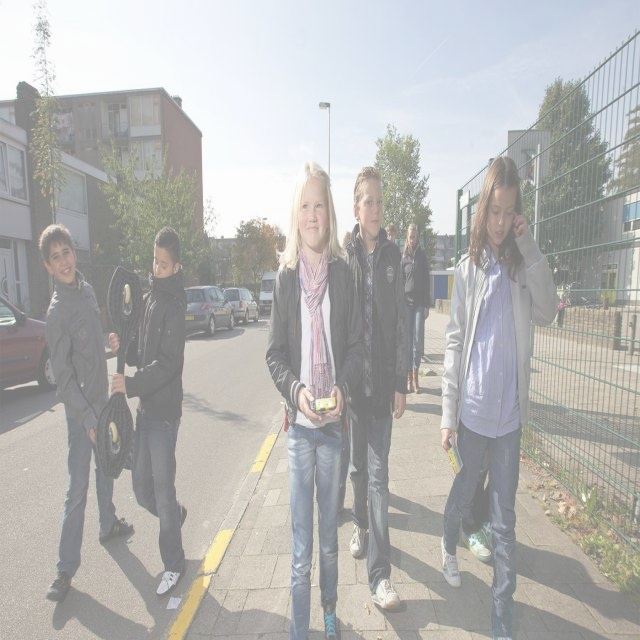pessoa: (438, 150, 562, 640), (262, 152, 364, 640), (36, 217, 136, 607), (334, 160, 408, 618), (108, 221, 190, 598), (330, 402, 370, 532), (400, 222, 430, 394), (459, 446, 495, 564), (557, 290, 566, 332), (385, 222, 397, 243)
